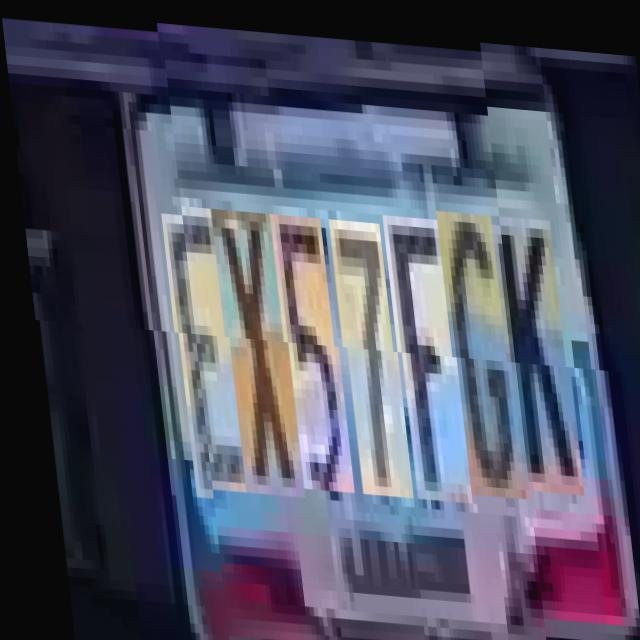5: (270, 210, 344, 488)
7: (328, 214, 404, 492)
E: (160, 202, 239, 489)
F: (382, 208, 462, 496)
G: (436, 204, 516, 491)
K: (492, 216, 575, 495)
X: (210, 205, 294, 493)
